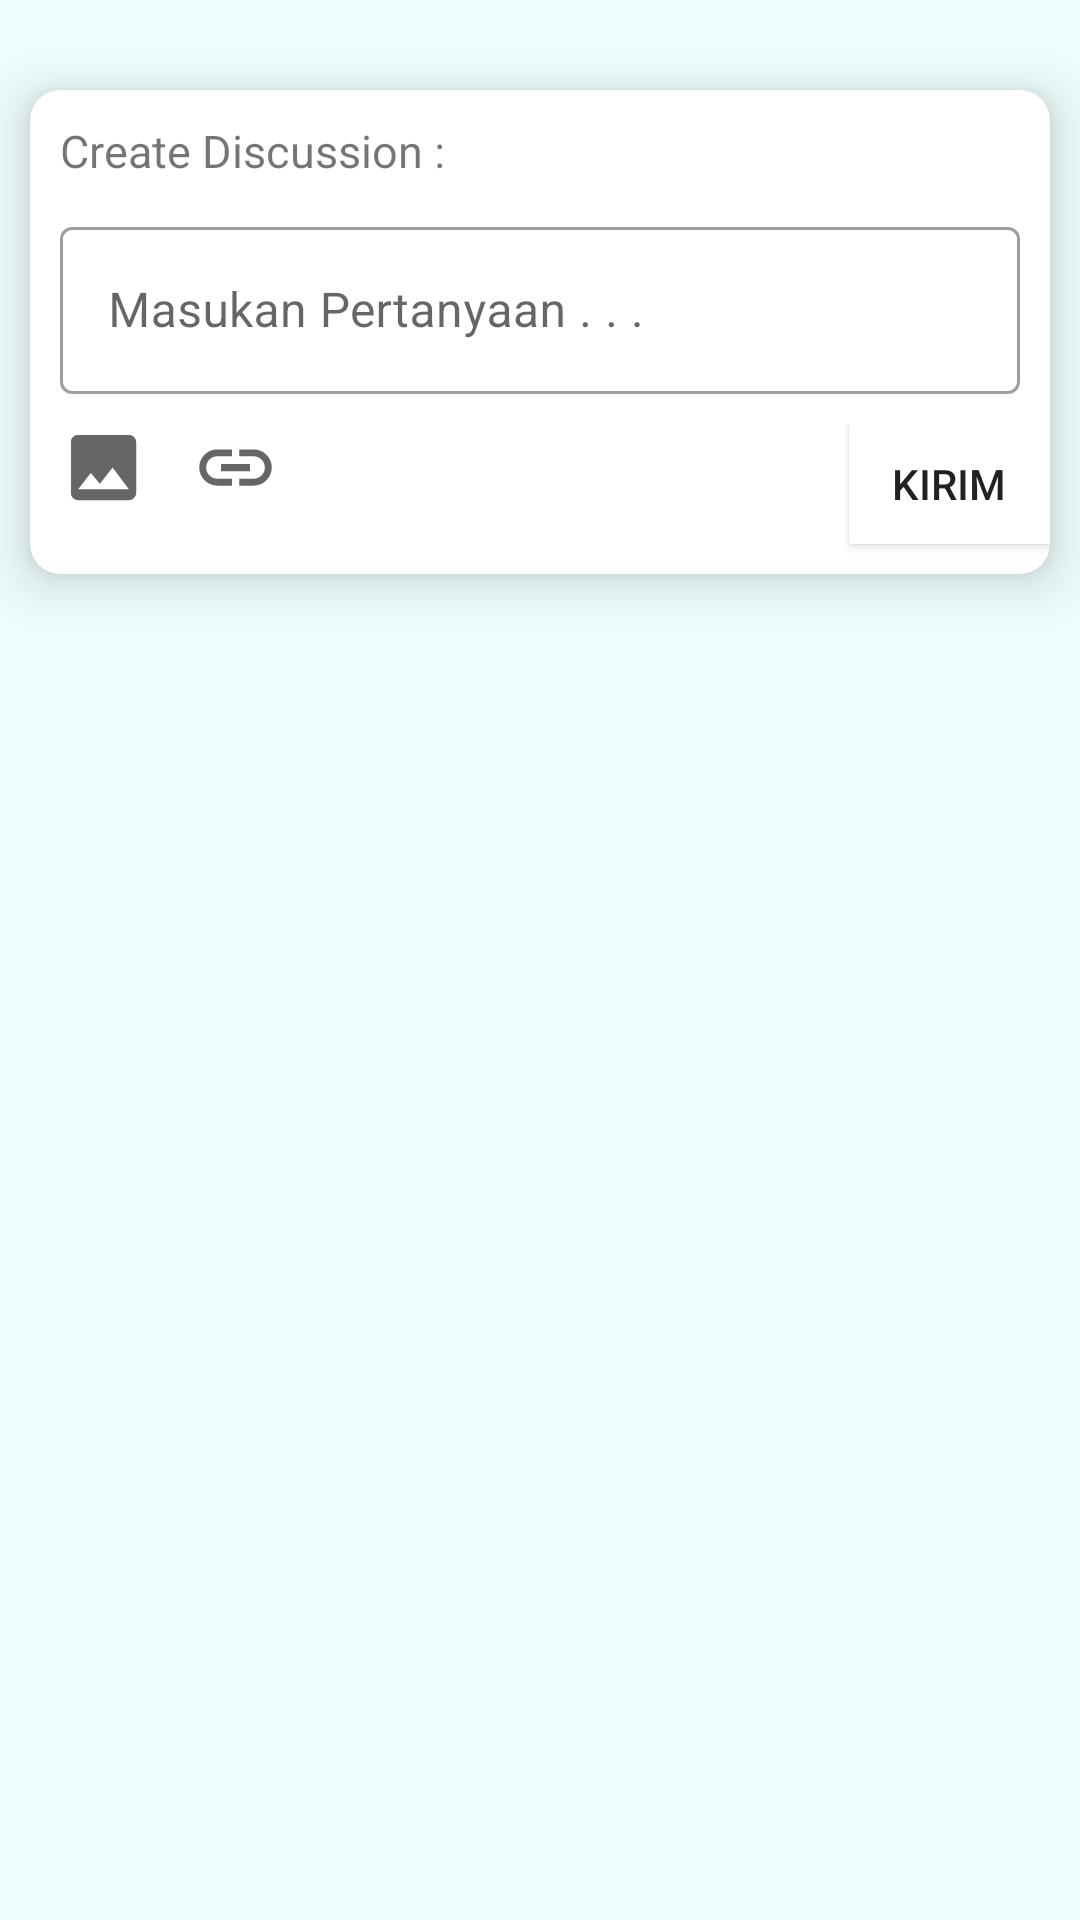

Icon click points for this 1080×1920 phone screenshot, format [x,y]:
link: [235,467]
